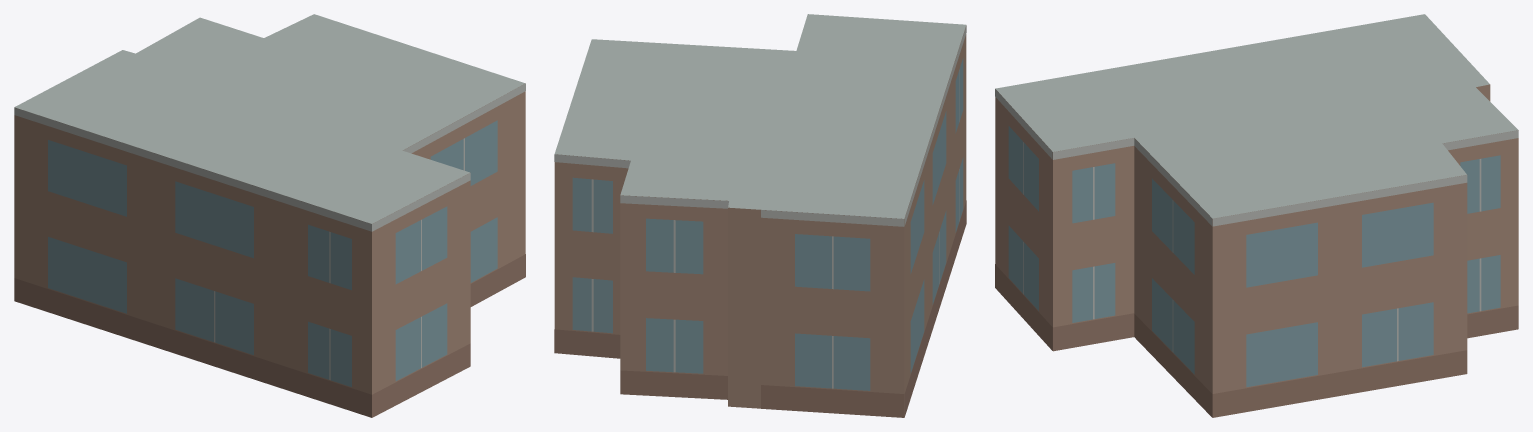
The model's file is survey-upis-32999414.glb.
3 renders of one model, left to right at view 1: azimuth 30°, elevation 25°; view 2: azimuth 150°, elevation 25°; view 3: azimuth 270°, elevation 25°, orthographic. The views are drawn at different scales.
Visible parts, largest first — view 1: survey-upis-32999414.tmp; view 2: survey-upis-32999414.tmp; view 3: survey-upis-32999414.tmp.
Boxes of the visible parts, x1,y1,x2,y2 form: survey-upis-32999414.tmp: [14, 14, 525, 417]; survey-upis-32999414.tmp: [554, 14, 966, 417]; survey-upis-32999414.tmp: [995, 14, 1518, 417].
Size of the model in its own units: 13.45 by 6.1 by 14.54.
